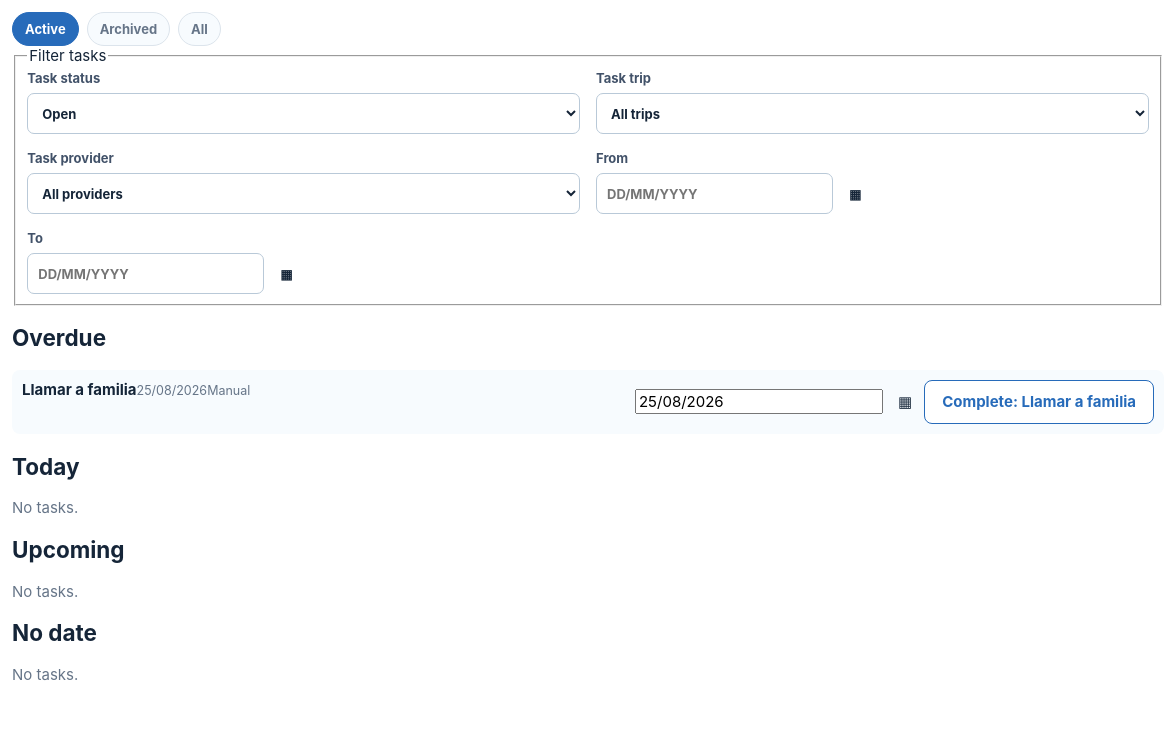
groupTasks › renders the completion undo notice in English without translating task titles
The width and height of the screenshot is (1164, 732).
Click the button "Complete: Llamar a familia". click: (1039, 402)
box: [924, 380, 1154, 424]
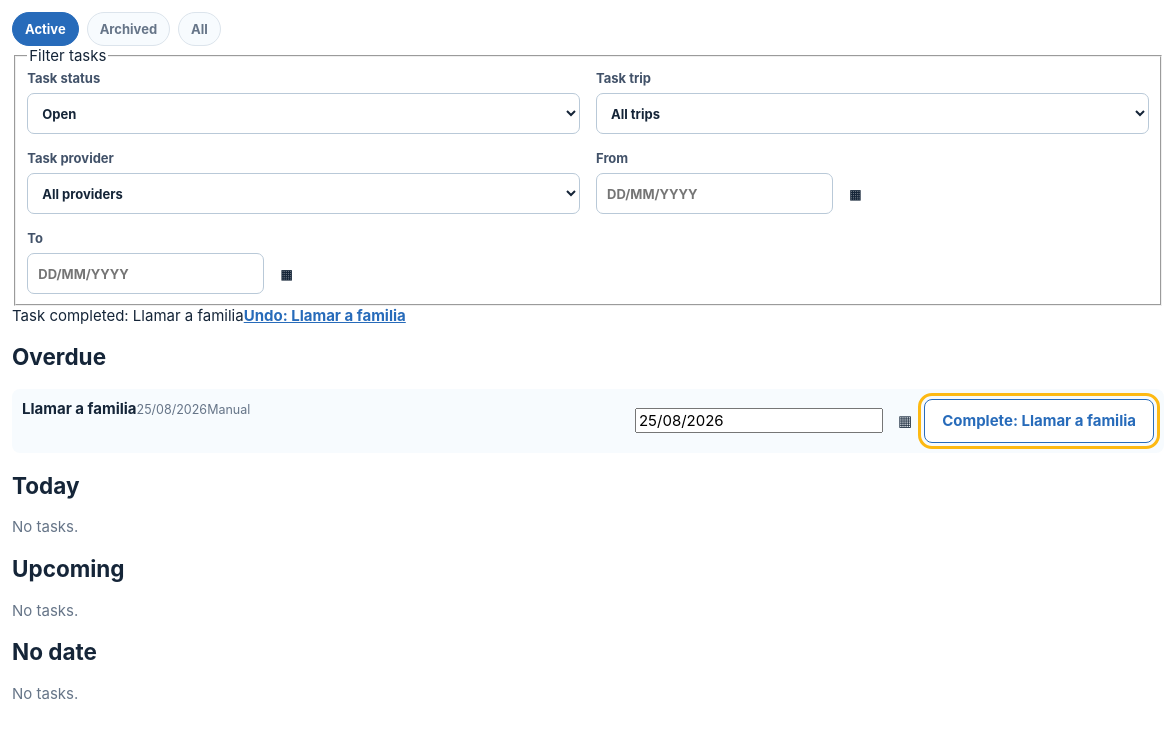
Expected: the element named "Recent action" is shown, [12, 306, 406, 325]
Expected: the button "Undo: Llamar a familia" is shown, [244, 306, 406, 325]
